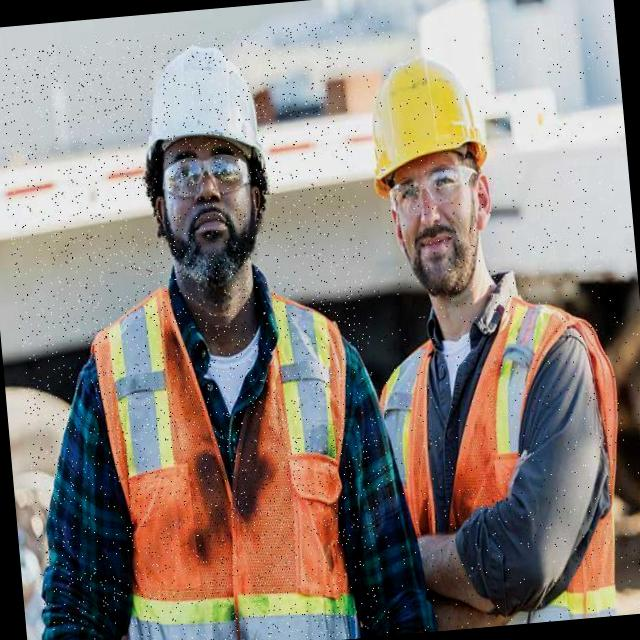helmet: (135, 39, 271, 184), (362, 51, 492, 201)
vest: (88, 271, 370, 640), (372, 288, 639, 634)
